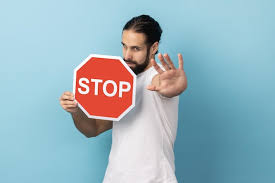stop sign: (72, 54, 138, 121)
